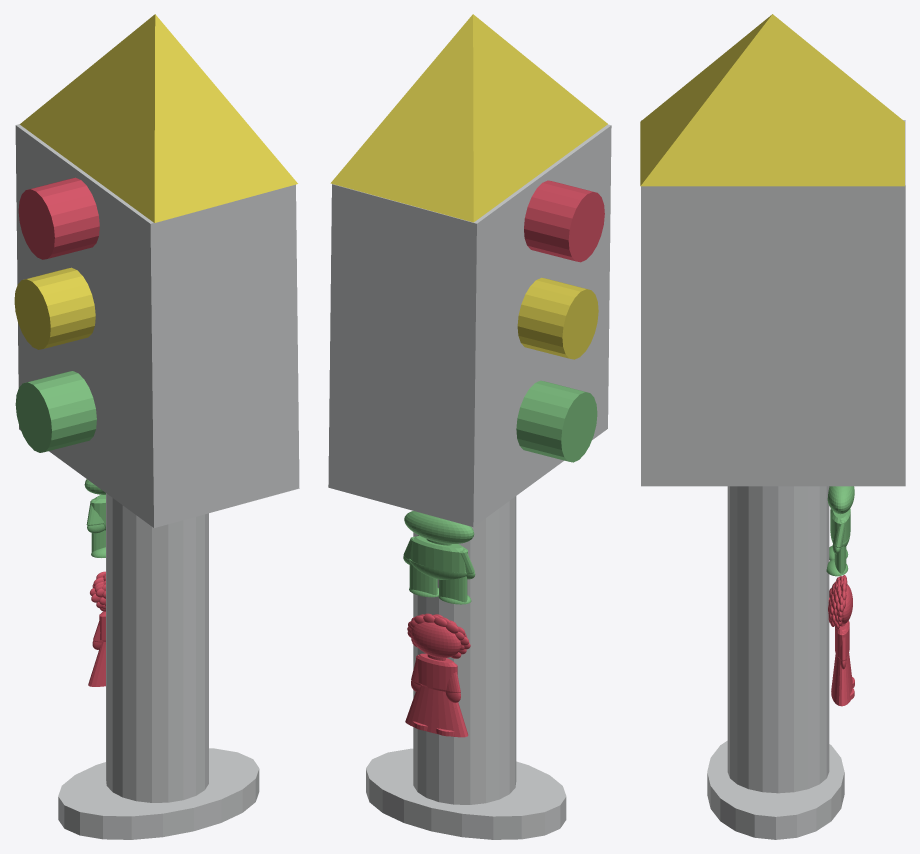
The model's file is Semaforo.glb.
3 views of the same model, side by side, from view 1: azimuth 30°, elevation 25°; view 2: azimuth 150°, elevation 25°; view 3: azimuth 270°, elevation 25° (orthographic). The views are drawn at different scales.
Parts seen in each view (by area): view 1: Mesh_Mesh_head_geo.001_lambert2SG.001; view 2: Mesh_Mesh_head_geo.001_lambert2SG.001; view 3: Mesh_Mesh_head_geo.001_lambert2SG.001.
Part boxes in pixels (bbox=[...]): Mesh_Mesh_head_geo.001_lambert2SG.001: bbox=[14, 14, 299, 839]; Mesh_Mesh_head_geo.001_lambert2SG.001: bbox=[328, 14, 611, 839]; Mesh_Mesh_head_geo.001_lambert2SG.001: bbox=[640, 14, 905, 839].
Bounding box in the file's own units: 0.0481 × 0.1688 × 0.0521.
